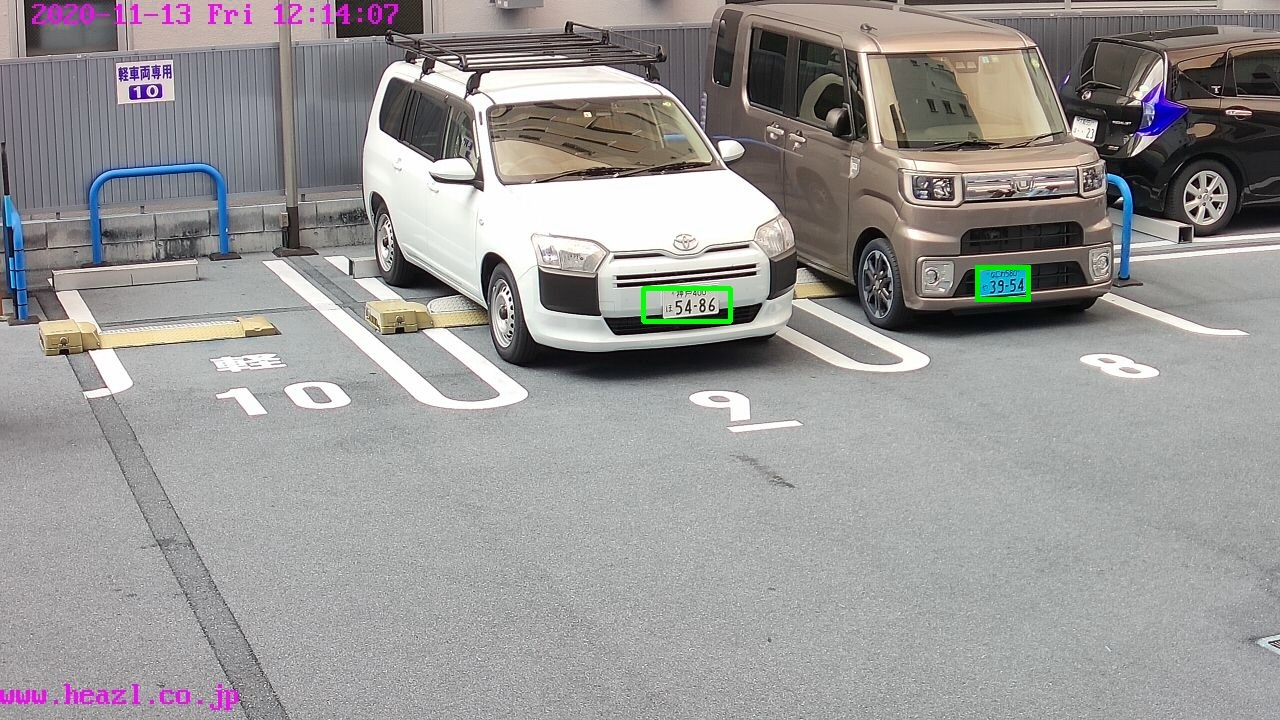number_plate: (664, 284, 721, 316), (978, 266, 1029, 294), (1070, 114, 1098, 142)
